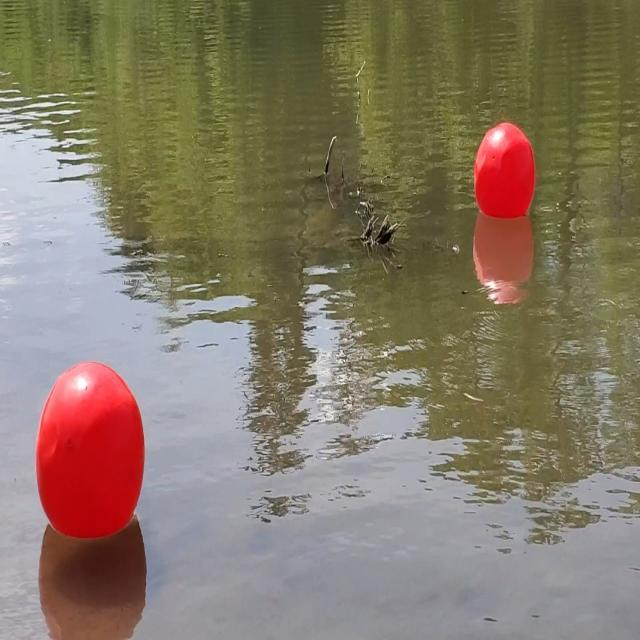buoy: (34, 362, 146, 546), (473, 120, 536, 224)
